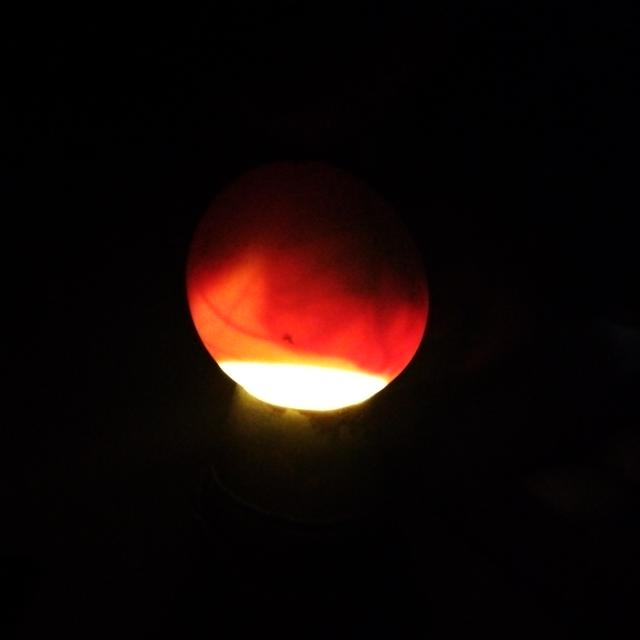Embriao: (191, 168, 424, 300)
